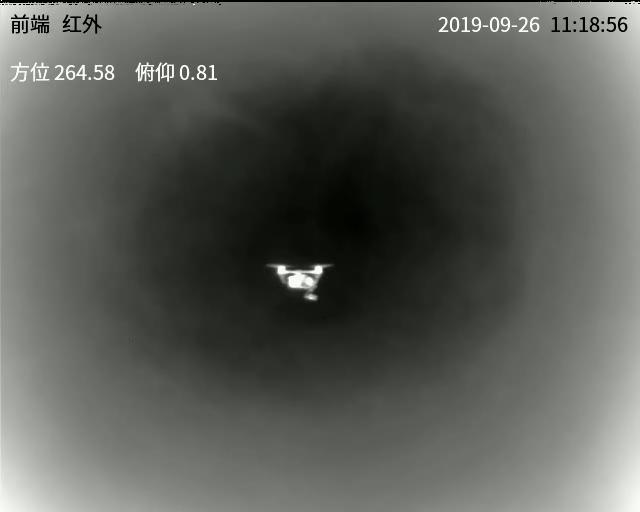uav: (261, 257, 335, 306)
